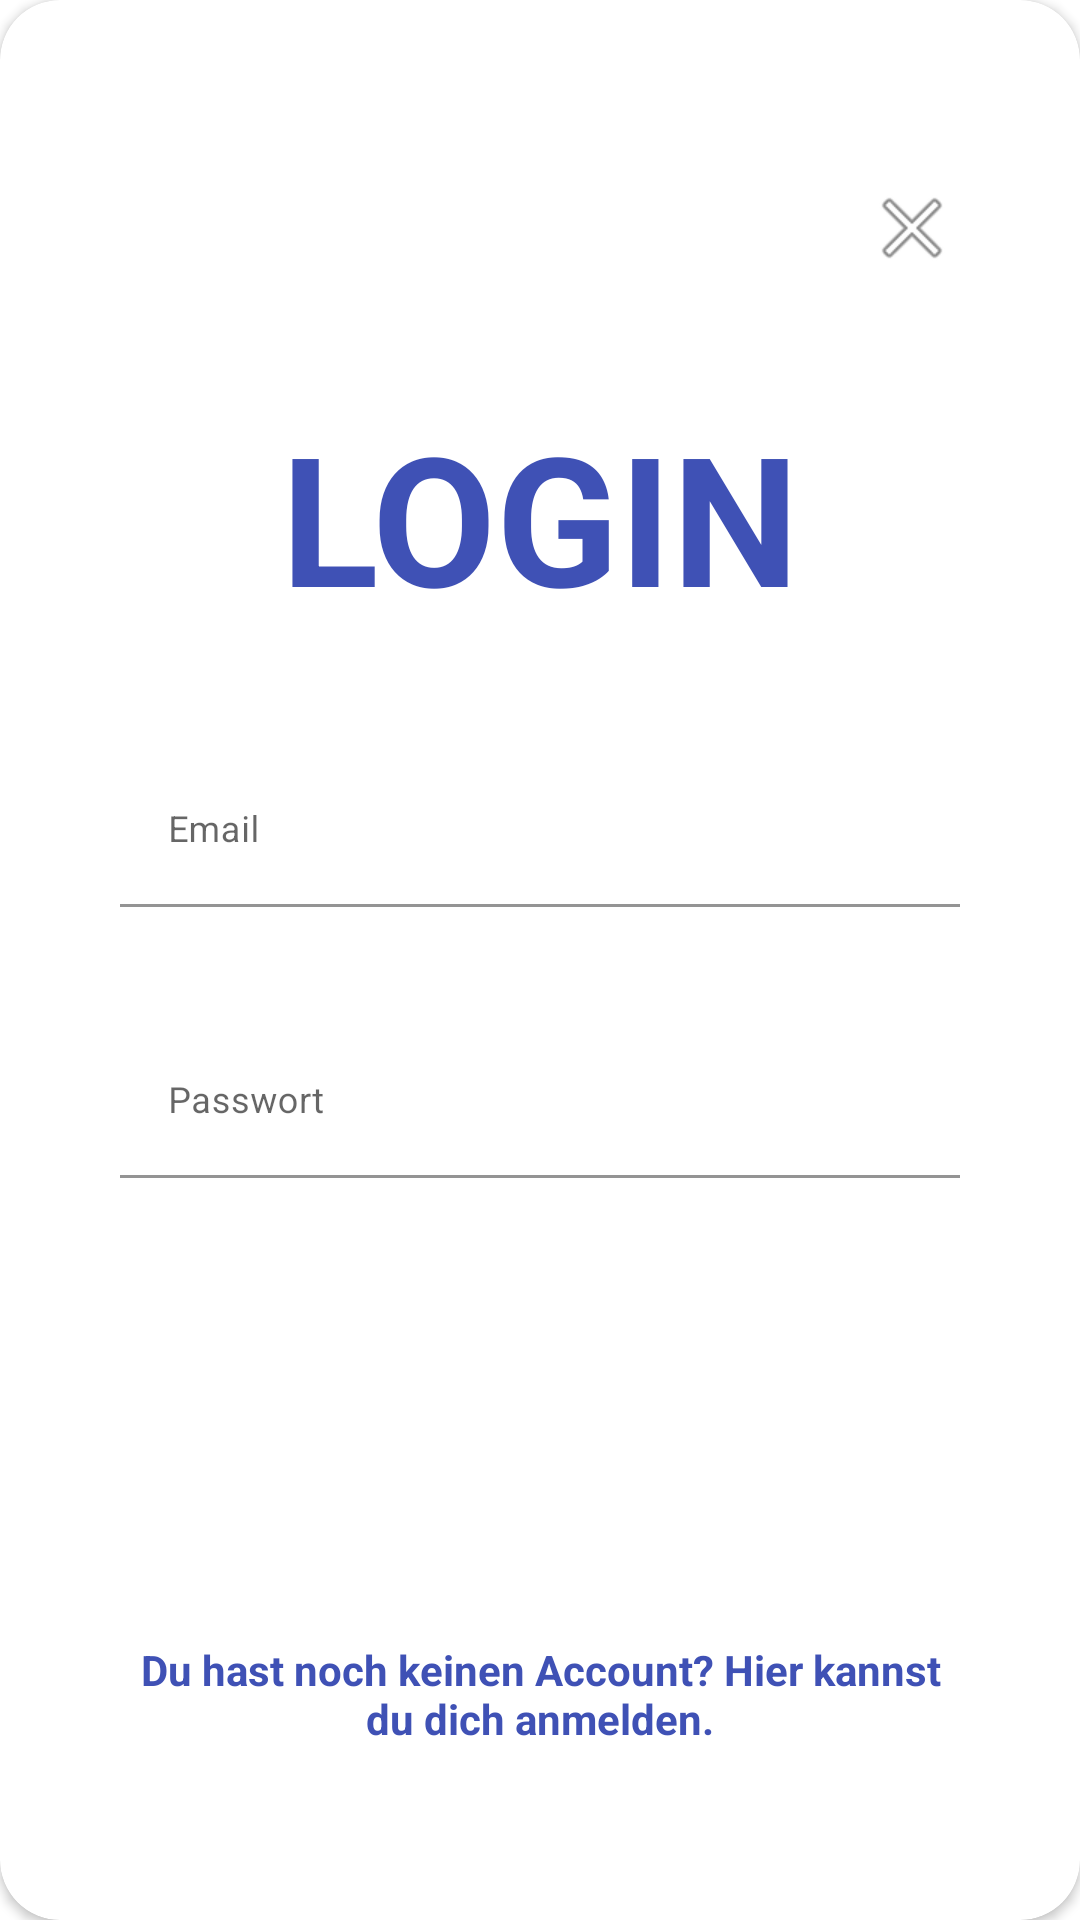

Icon click points for this 1080w x 1920h phone screenshot, format (x=x, y=y):
close clear cancel: (x=912, y=228)
